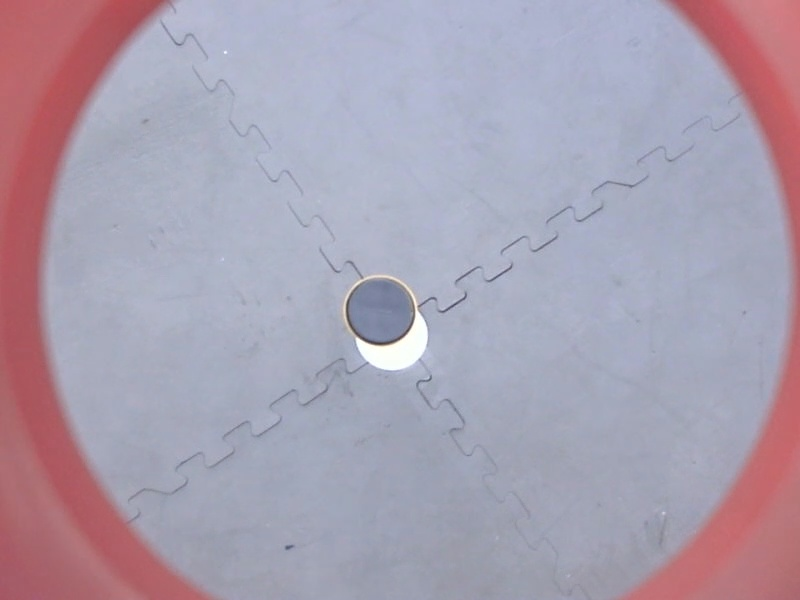tip: (339, 271, 423, 352)
